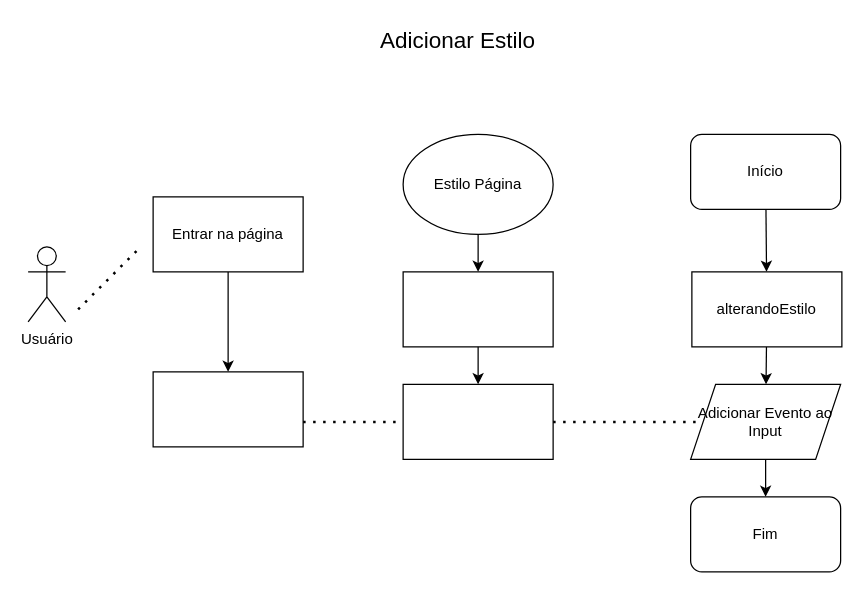
This 864x594 diagram has some shape labels left out. Here are the shapes that lost their labels. From the top down, the box of each, then its label:
(402, 271, 553, 347): Conteúdo Página
(152, 371, 303, 447): Clicar no botão para mudança de estilo
(402, 383, 553, 459): Input Btn
